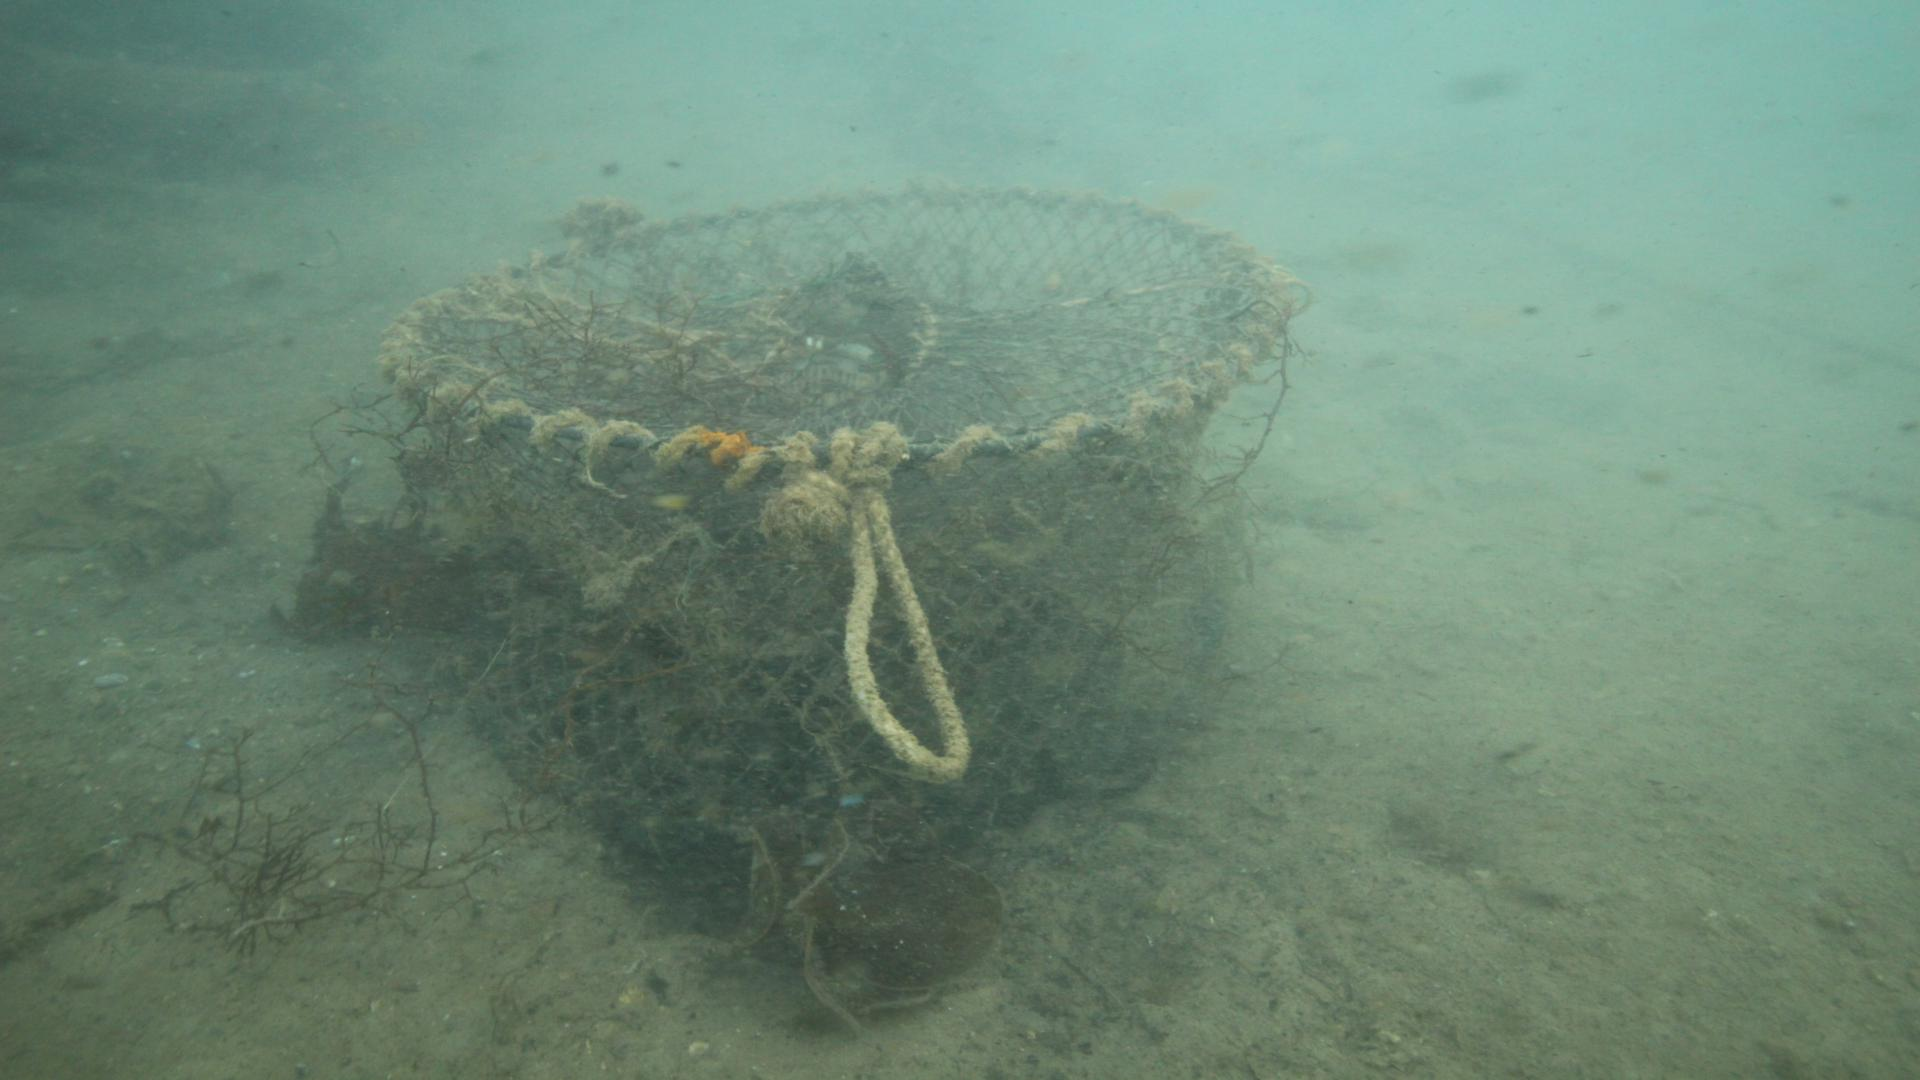circular fish trap: (375, 174, 1313, 837)
